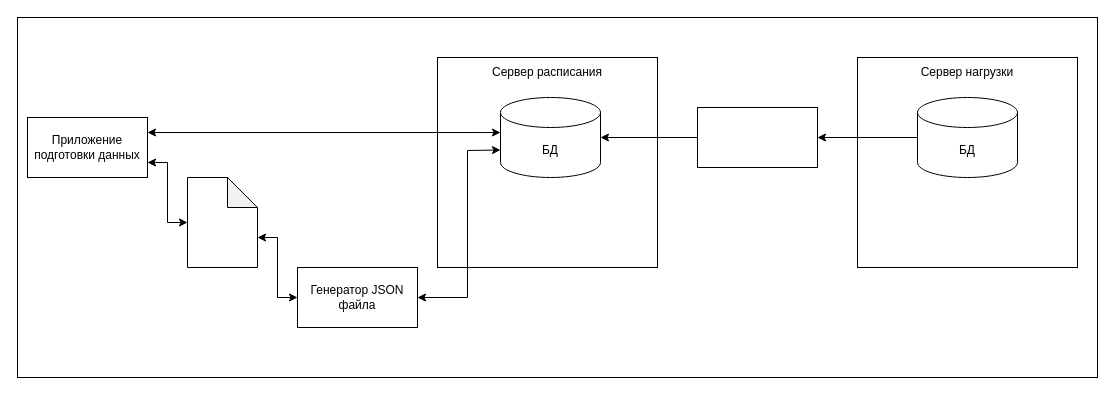
Some shapes in this 1115 by 395 pixel diagram are drawn without their labels. The shapes that lost their labels are listed below. From the top down, each one's centre as x and y in pixels, then its label:
At (x=757, y=137): "Конвертер".
At (x=222, y=222): "JSON файл".
